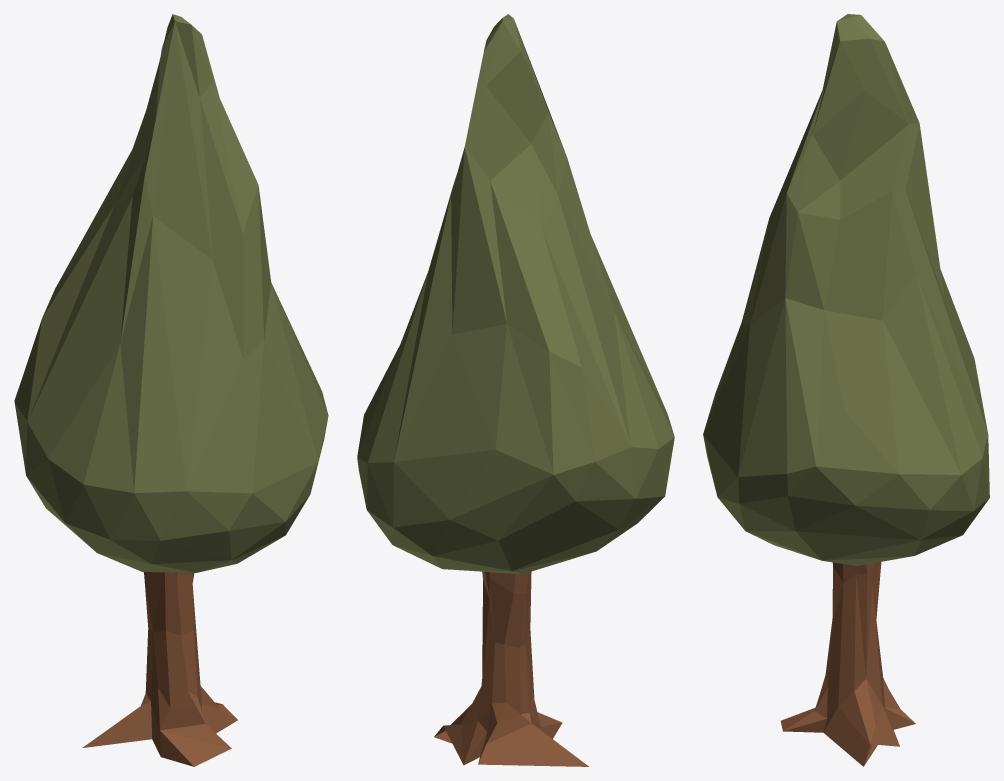
File: Tree_07.fbx
3 views of the same model, side by side, from view 1: azimuth 30°, elevation 25°; view 2: azimuth 150°, elevation 25°; view 3: azimuth 270°, elevation 25° (orthographic).
Parts seen in each view (by area): view 1: Icosphere, Cylinder; view 2: Icosphere, Cylinder; view 3: Icosphere, Cylinder.
Part boxes in pixels (left/top/right/bottom): Icosphere: left=14, top=14, right=328, bottom=572; Cylinder: left=82, top=572, right=237, bottom=766; Icosphere: left=357, top=14, right=674, bottom=574; Cylinder: left=434, top=571, right=588, bottom=766; Icosphere: left=703, top=14, right=989, bottom=565; Cylinder: left=780, top=562, right=915, bottom=766.
Size of the model in its own units: 143 by 373 by 134.
